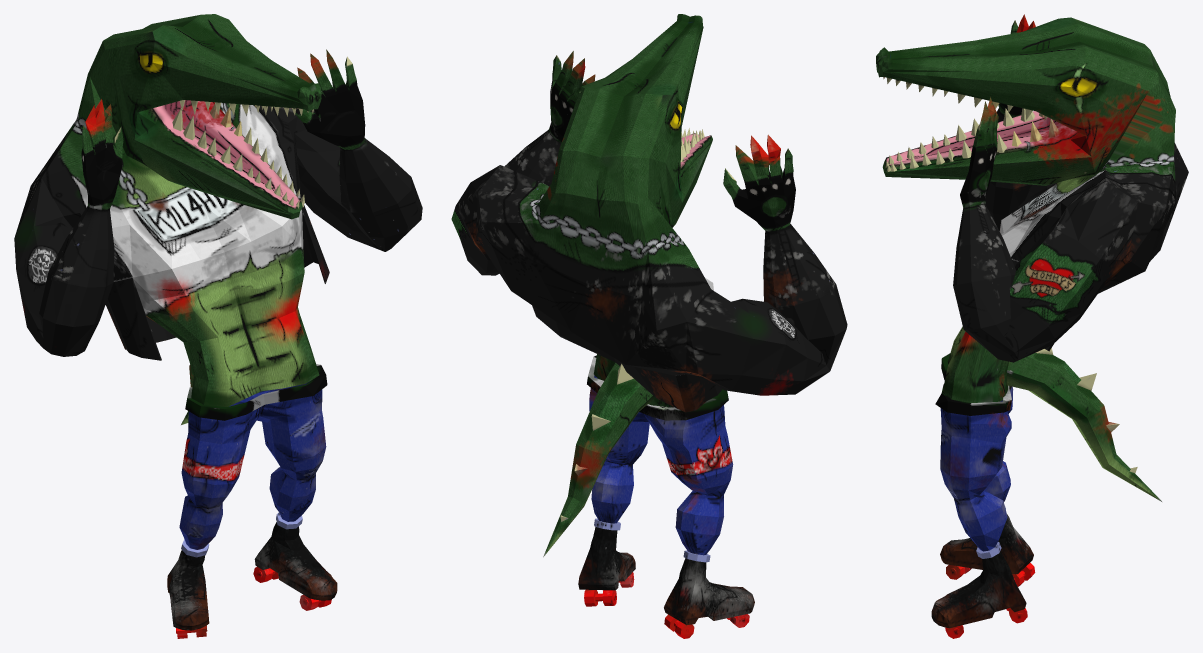
File: cocodrilaBonesSelect_000018.obj
3 views of the same model, side by side, from view 1: azimuth 30°, elevation 25°; view 2: azimuth 150°, elevation 25°; view 3: azimuth 270°, elevation 25° (orthographic).
Parts seen in each view (by area): view 1: Crocodile.002_Cylinder.002; view 2: Crocodile.002_Cylinder.002; view 3: Crocodile.002_Cylinder.002.
Part boxes in pixels (left/top/right/bottom): Crocodile.002_Cylinder.002: left=14, top=14, right=422, bottom=638; Crocodile.002_Cylinder.002: left=451, top=14, right=847, bottom=638; Crocodile.002_Cylinder.002: left=876, top=14, right=1188, bottom=638.
Size of the model in its own units: 4.55 by 6.57 by 3.29.
